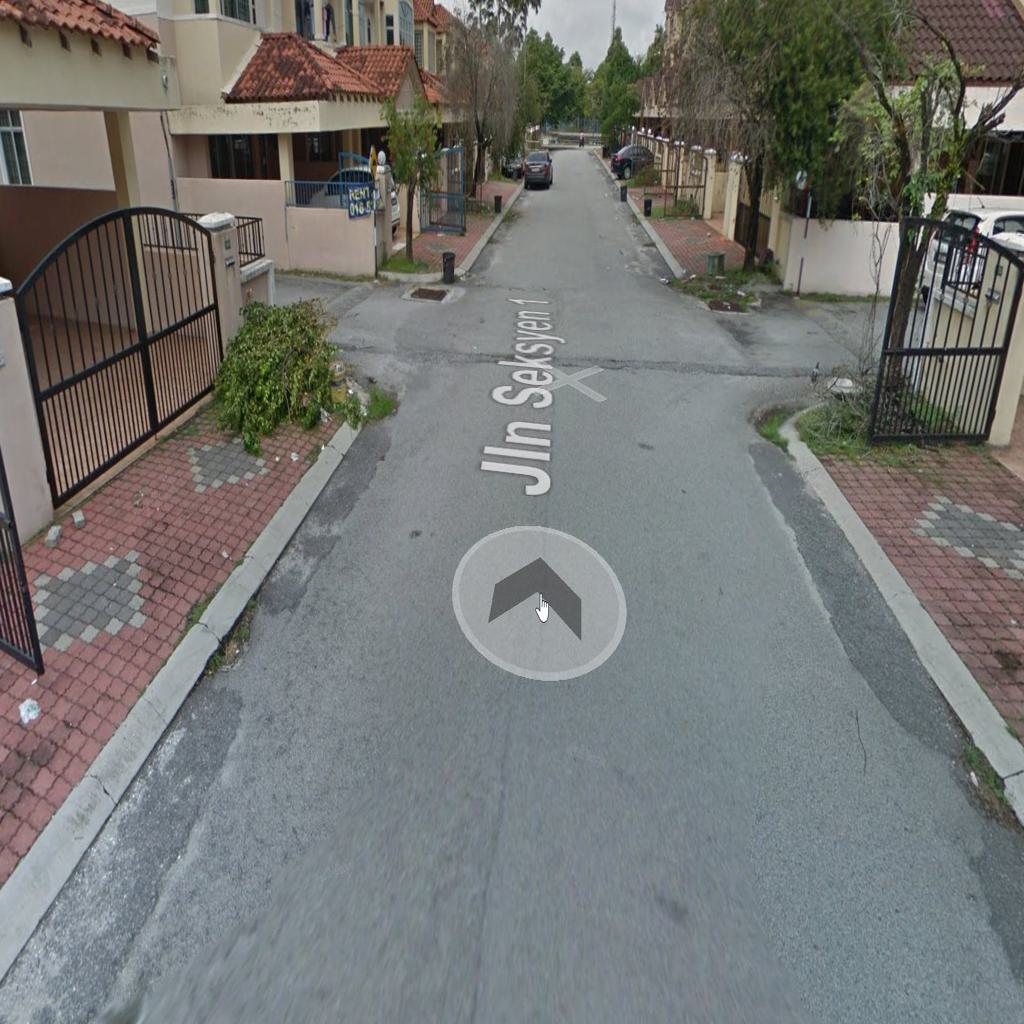Junction: (665, 254, 914, 444), (268, 224, 453, 419)
